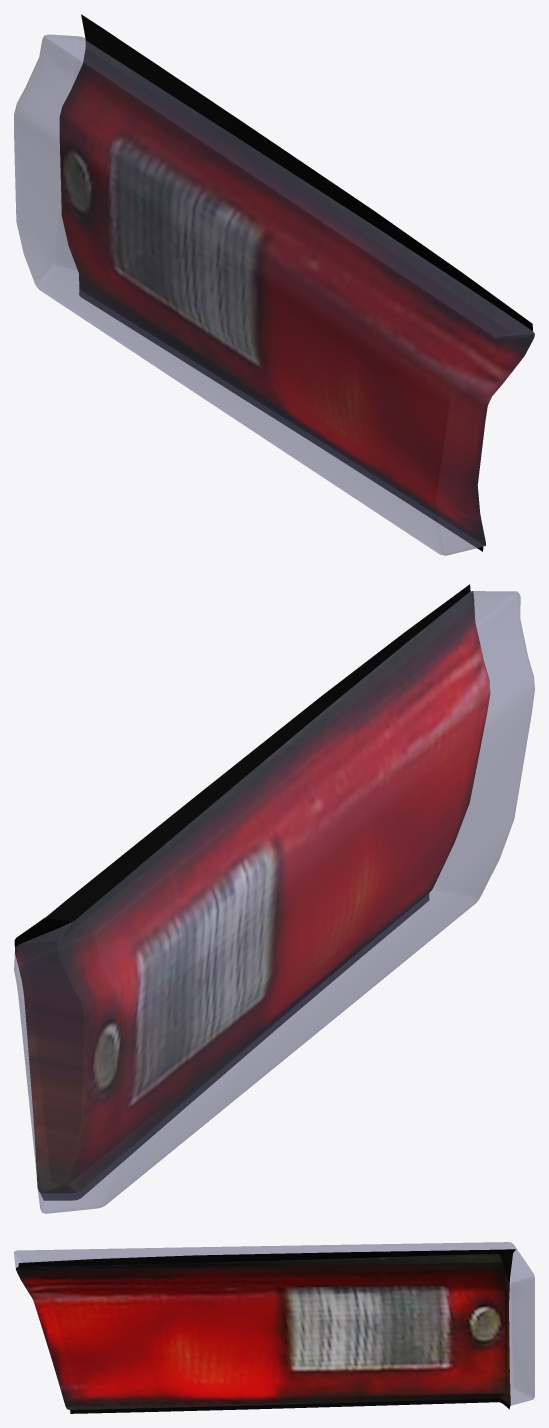
3 renders of one model, top to bottom at view 1: azimuth 30°, elevation 25°; view 2: azimuth 150°, elevation 25°; view 3: azimuth 270°, elevation 25°, orthographic. The views are drawn at different scales.
Parts seen in each view (by area): view 1: Y173_541D_R_Y173_541D_R_2_DTaSI, Y173_541D_R_Y173_541D_R_1_N, Y173_541D_R_3_D_Y173_541D_R; view 2: Y173_541D_R_Y173_541D_R_2_DTaSI, Y173_541D_R_Y173_541D_R_1_N, Y173_541D_R_3_D_Y173_541D_R; view 3: Y173_541D_R_Y173_541D_R_1_N, Y173_541D_R_Y173_541D_R_2_DTaSI, Y173_541D_R_3_D_Y173_541D_R.
Part boxes in pixels (x1,y1,x2,y2): Y173_541D_R_Y173_541D_R_2_DTaSI: [14, 34, 534, 555]; Y173_541D_R_Y173_541D_R_1_N: [59, 40, 534, 545]; Y173_541D_R_3_D_Y173_541D_R: [79, 14, 532, 551]; Y173_541D_R_Y173_541D_R_2_DTaSI: [14, 591, 534, 1213]; Y173_541D_R_Y173_541D_R_1_N: [15, 591, 490, 1193]; Y173_541D_R_3_D_Y173_541D_R: [14, 584, 470, 1200]; Y173_541D_R_Y173_541D_R_1_N: [16, 1253, 510, 1409]; Y173_541D_R_Y173_541D_R_2_DTaSI: [14, 1242, 534, 1405]; Y173_541D_R_3_D_Y173_541D_R: [18, 1249, 515, 1413].
Size of the model in its own units: 4.98 by 12 by 35.84.
